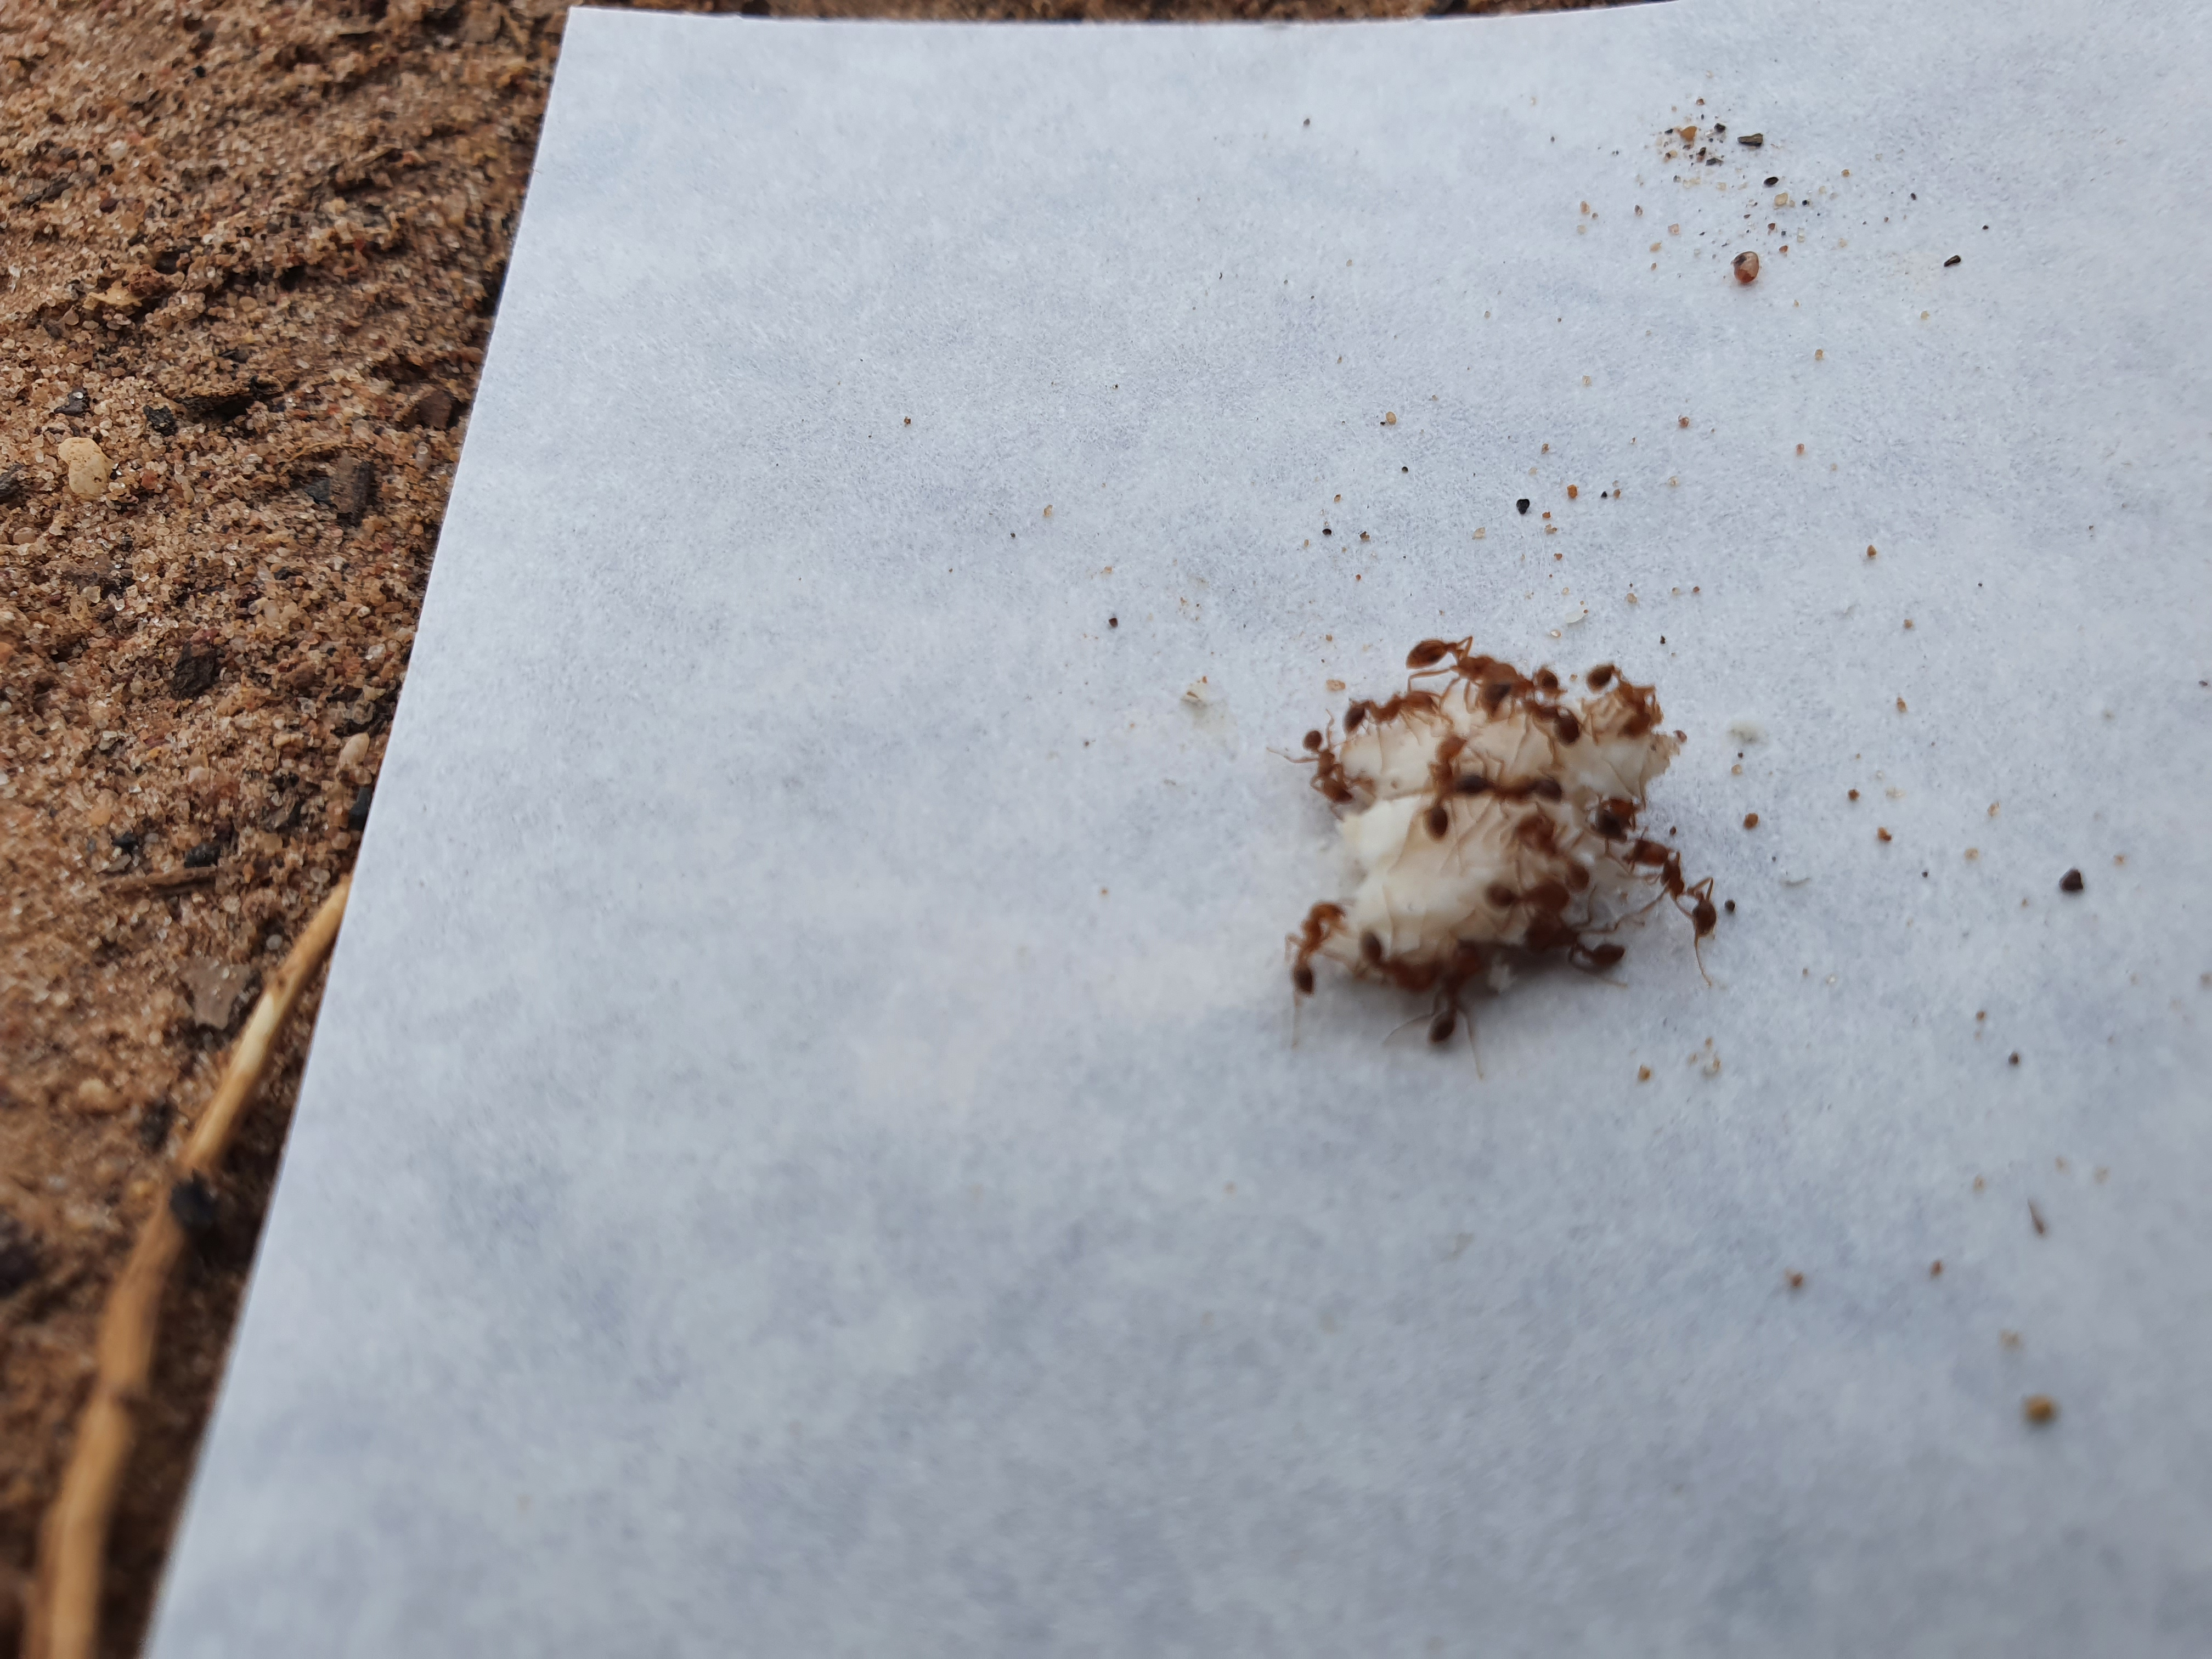Solenopsis_geminata: (1606, 816, 1761, 1004), (1254, 706, 1383, 843)
